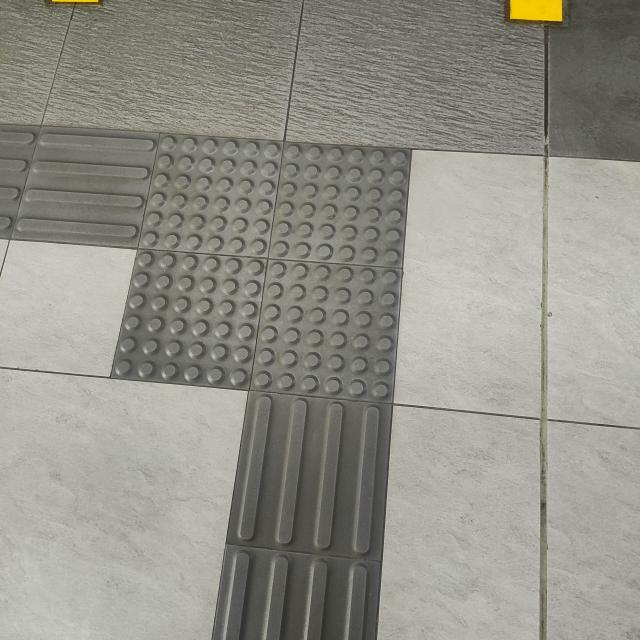kiri: (0, 70, 466, 550)
